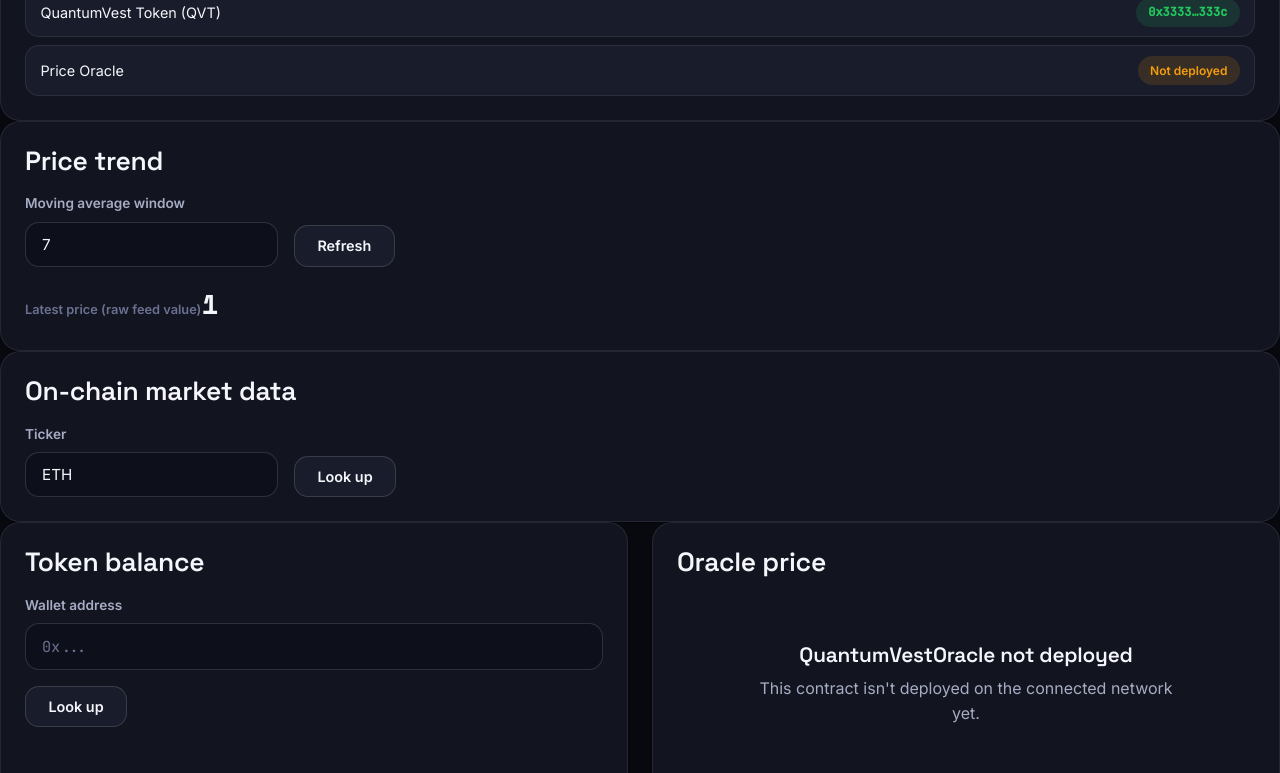
Test case: Blockchain page › looks up on-chain market data for a ticker
(page scrolled)
Click the button "Look up" below "Ticker": click(345, 476) [294,456,396,497]
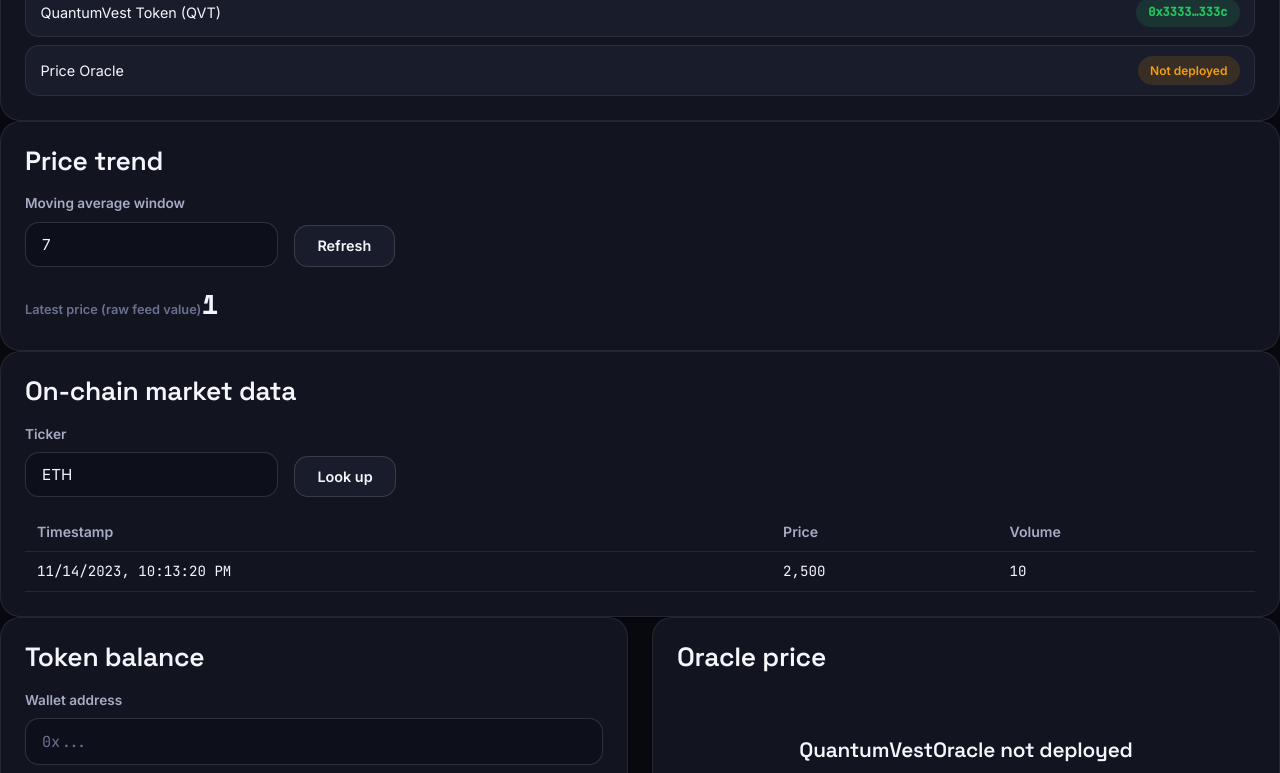
Now the text "2,500" is shown, box [771,552,998,591]
